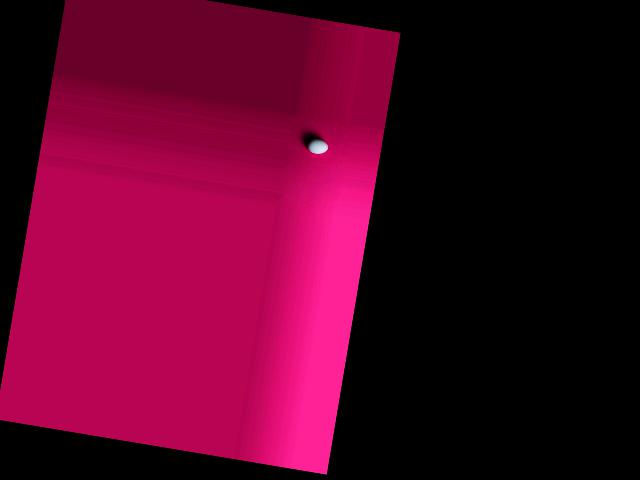egg: (305, 137, 329, 156)
